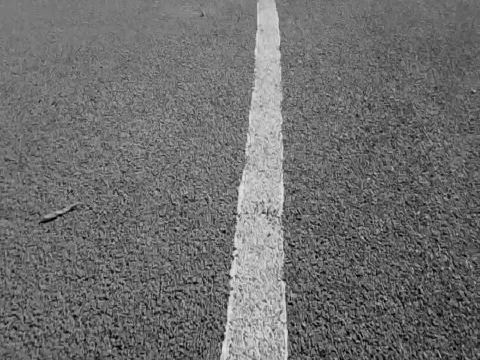Lines: (218, 0, 290, 360)
